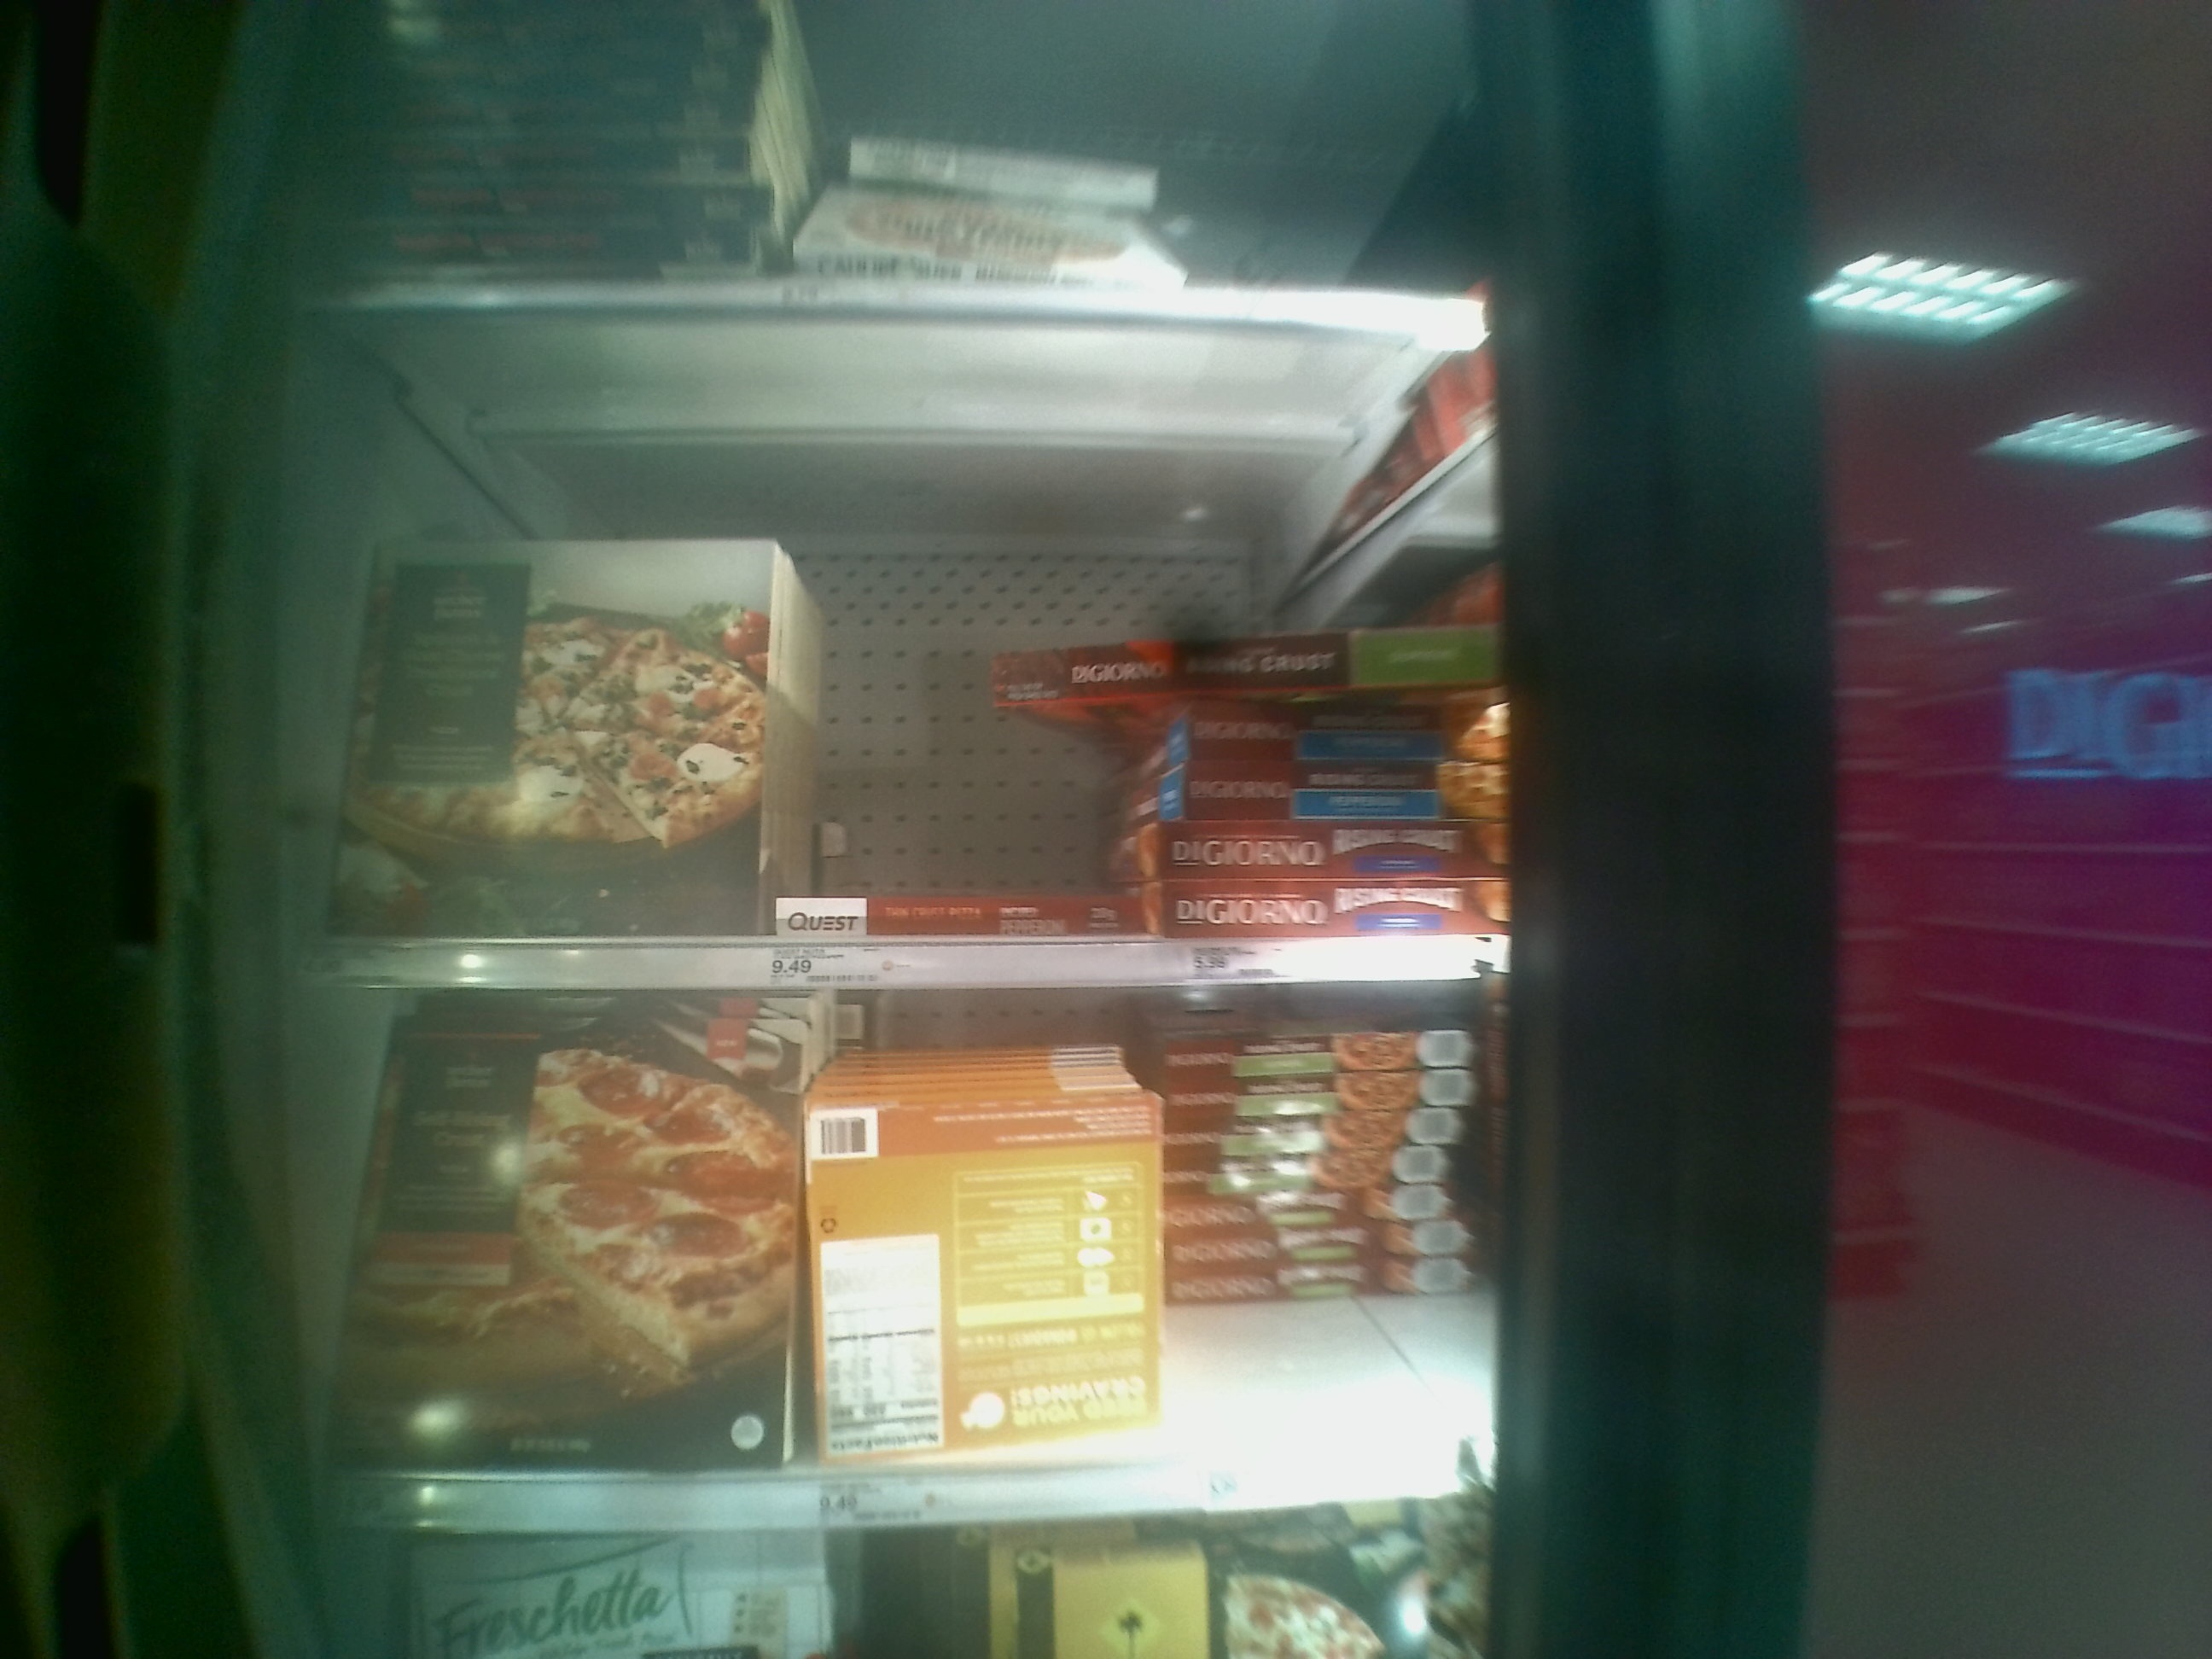shelf: (307, 295, 1519, 974), (319, 969, 1536, 1539)
